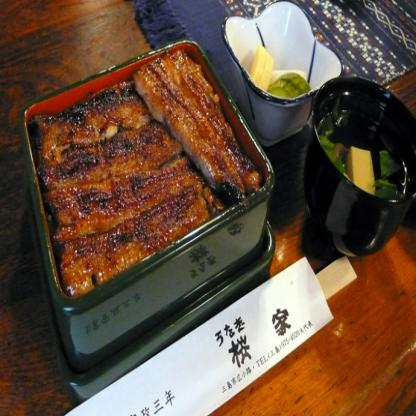eel: (52, 63, 245, 263)
